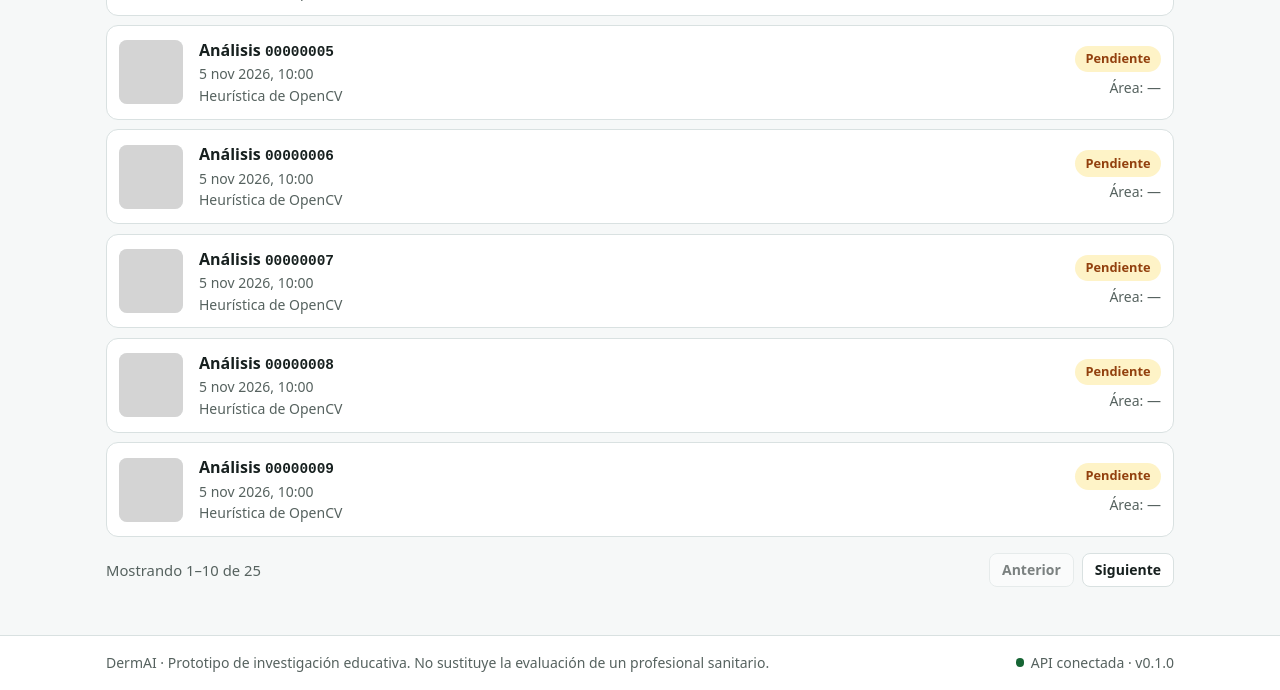
Test: HistoryPage › pagina conservando el filtro
The width and height of the screenshot is (1280, 690).
(page scrolled)
Expected: the text "Mostrando 1–10 de 25" is shown, [106,558,261,581]
Expected: the button "Anterior" is disabled, [989,553,1074,587]
Click the button "Siguiente" at (1128, 570), box [1082,553,1174,587]
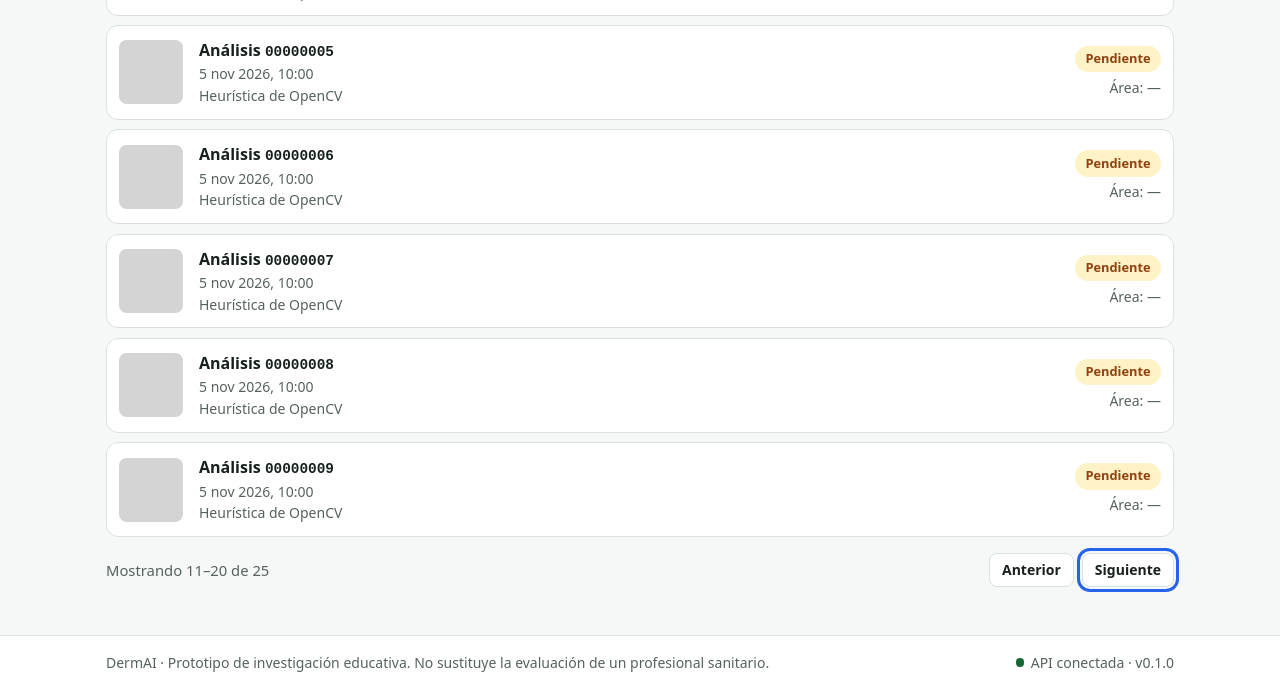
Expected: the text "Mostrando 11–20 de 25" is shown, [106,558,269,581]
Click the button "Anterior" at (1031, 570), box [989,553,1074,587]
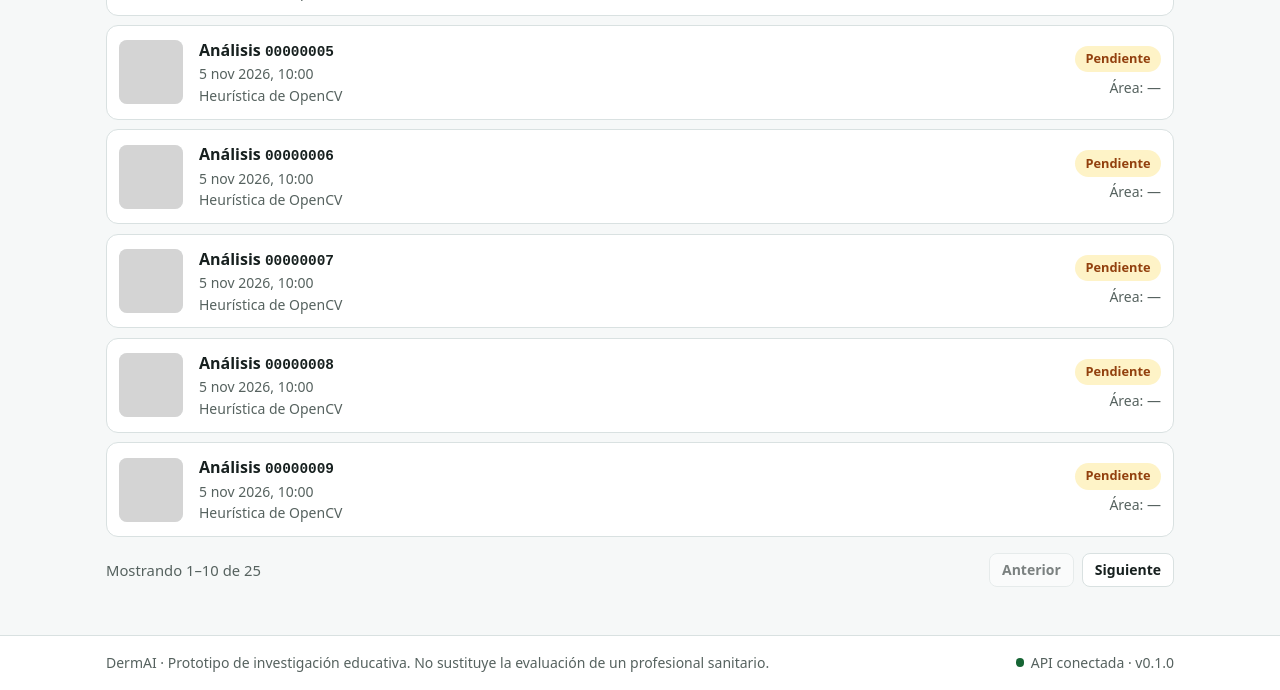
Expected: the text "Mostrando 1–10 de 25" is shown, [106,558,261,581]
